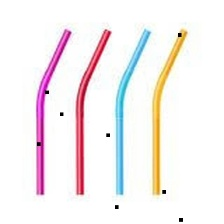drinking_straw: (144, 23, 193, 198), (27, 27, 75, 196), (69, 25, 114, 197), (109, 24, 153, 196)
